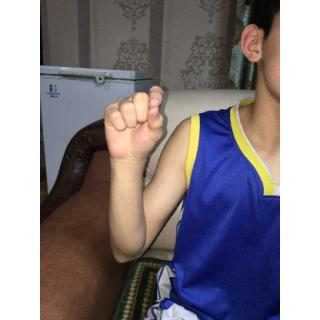FAA: (100, 85, 170, 162)
